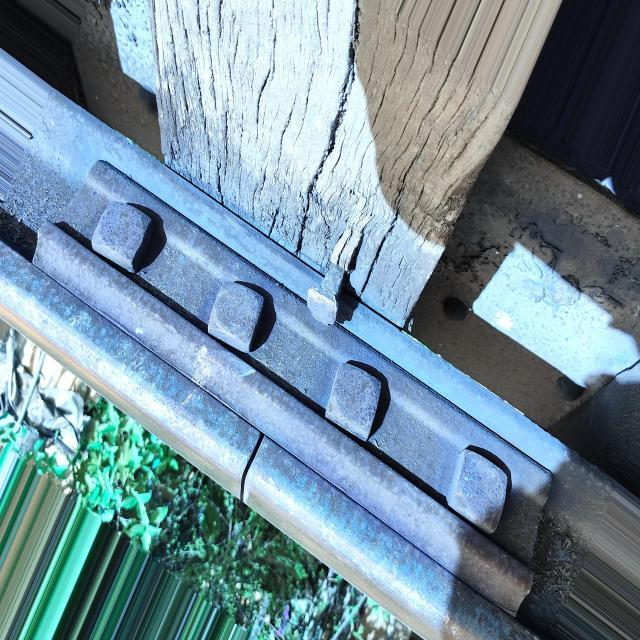Good Joint: (31, 164, 557, 615)
